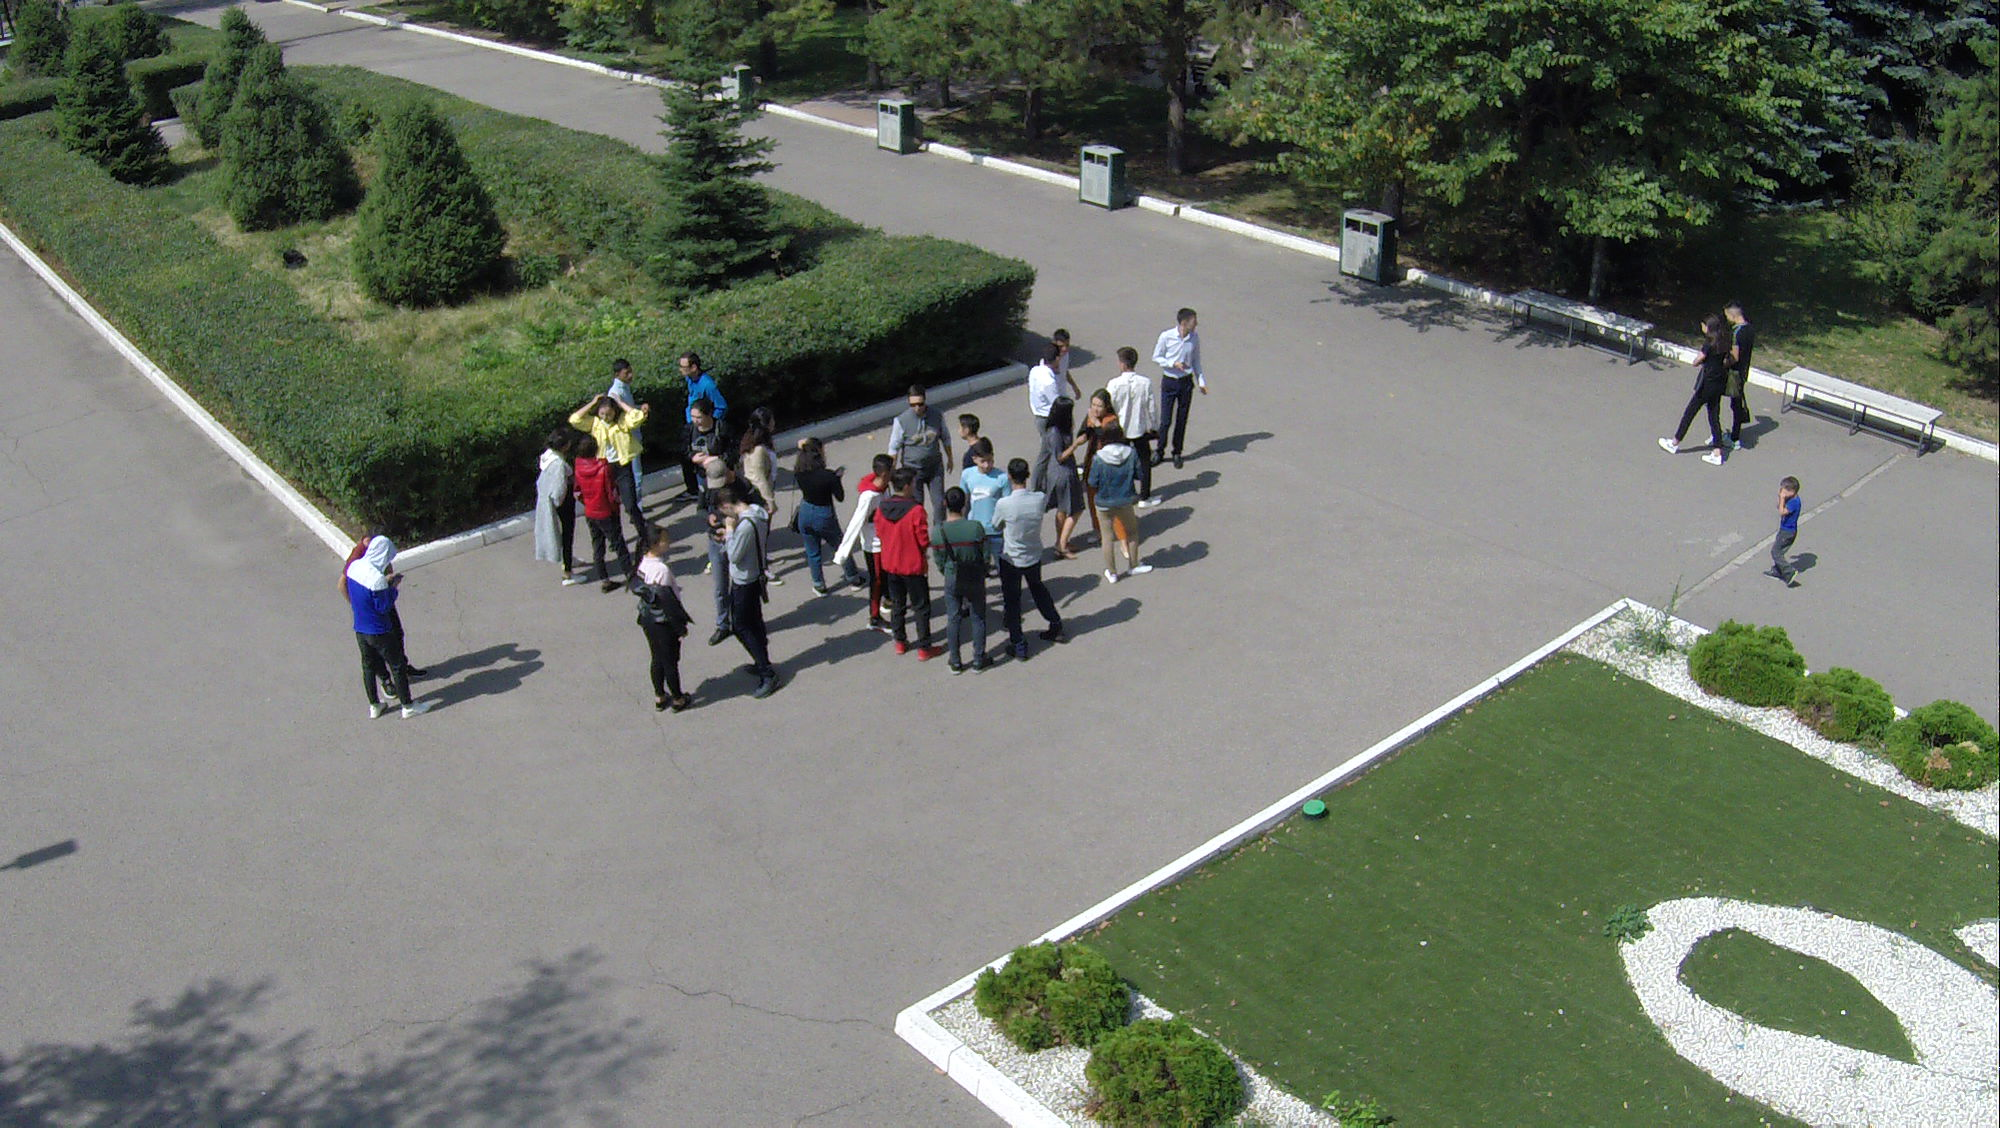person: (347, 530, 435, 739), (697, 491, 782, 693), (995, 462, 1064, 658), (876, 470, 939, 668), (632, 541, 693, 716), (932, 487, 982, 697), (1660, 316, 1724, 470), (795, 439, 853, 597), (1157, 299, 1207, 472), (1097, 435, 1153, 589), (578, 445, 628, 597), (1718, 299, 1764, 466), (1103, 339, 1157, 462), (530, 437, 570, 593), (1766, 470, 1818, 589), (847, 451, 876, 624), (889, 385, 947, 470), (1012, 345, 1068, 418), (582, 399, 628, 470), (674, 351, 728, 410), (955, 445, 1003, 503), (603, 362, 637, 405), (957, 412, 989, 453)
